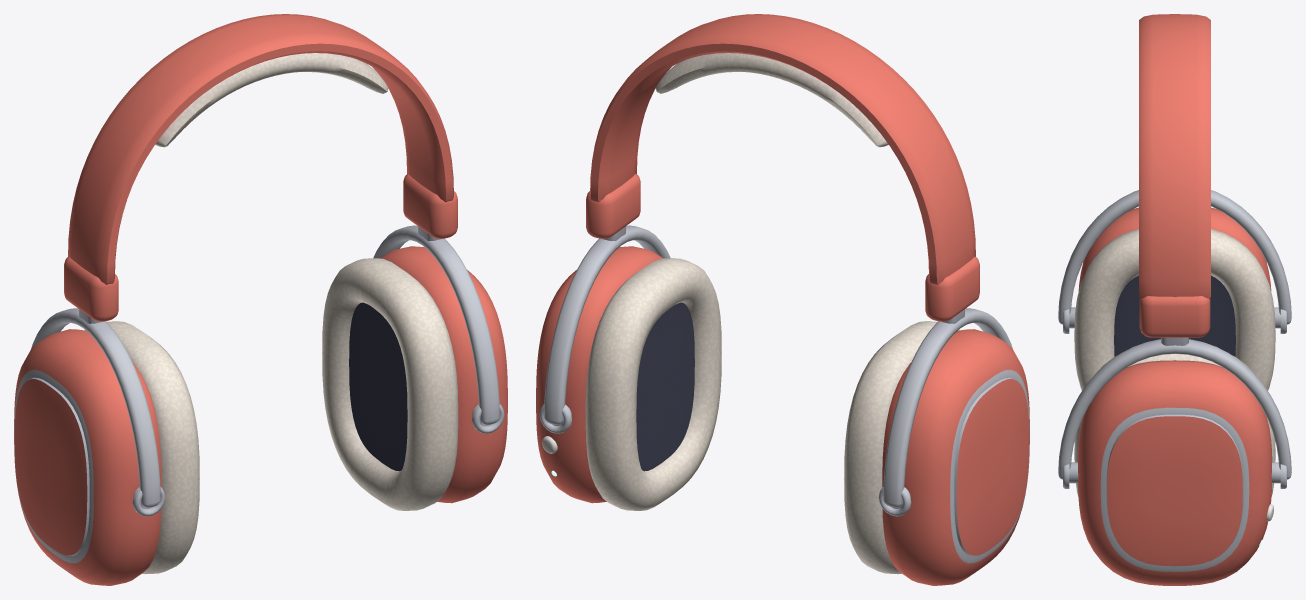
The model's file is headphones.glb.
3 views of the same model, side by side, from view 1: azimuth 30°, elevation 25°; view 2: azimuth 150°, elevation 25°; view 3: azimuth 270°, elevation 25° (orthographic). The views are drawn at different scales.
Visible parts, largest first — view 1: headphones_body, headphones_right_cup, headphones_left_cup; view 2: headphones_body, headphones_right_cup, headphones_left_cup; view 3: headphones_right_cup, headphones_body, headphones_left_cup.
Boxes of the visible parts, box(x1,y1,x2,y2) form: headphones_body: box(31, 14, 504, 516); headphones_right_cup: box(322, 246, 507, 510); headphones_left_cup: box(14, 321, 199, 585); headphones_body: box(539, 14, 1012, 516); headphones_right_cup: box(536, 246, 721, 510); headphones_left_cup: box(844, 321, 1029, 585); headphones_right_cup: box(1069, 354, 1280, 585); headphones_body: box(1058, 14, 1291, 488); headphones_left_cup: box(1069, 207, 1280, 390).
Size of the model in its own units: 0.1962 by 0.2207 by 0.0994.
4 materials, 3 textured.
